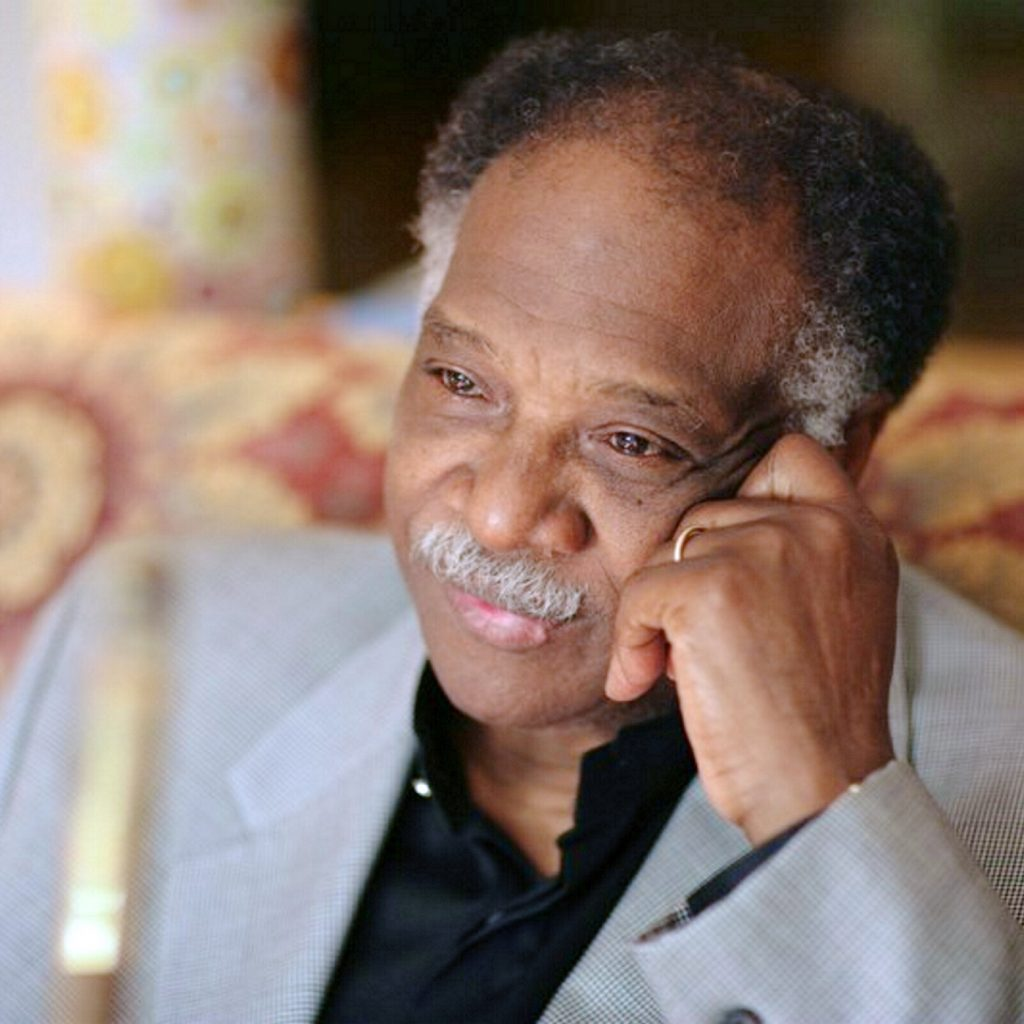human: (13, 28, 1024, 1024)
